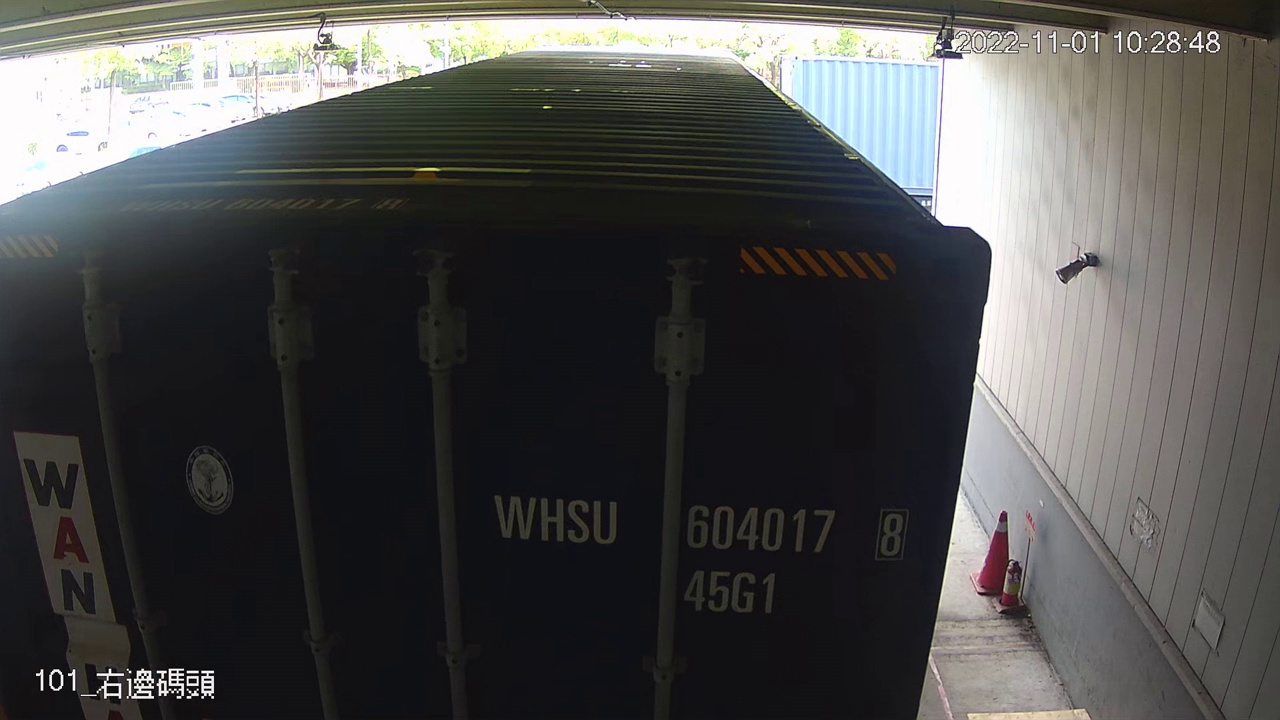container: (477, 470, 916, 625)
